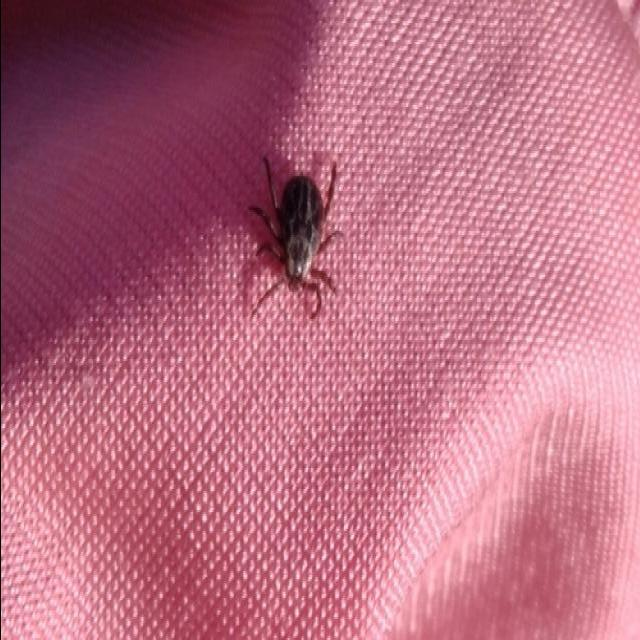Dermacentor Reticulatus-M: (248, 157, 343, 327)
